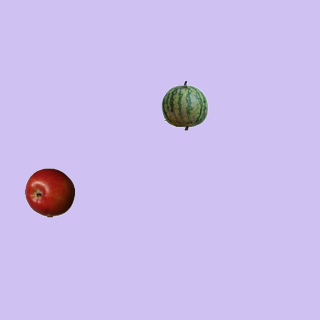Apple Braeburn: (24, 167, 74, 217)
Watermelon: (159, 80, 209, 130)
